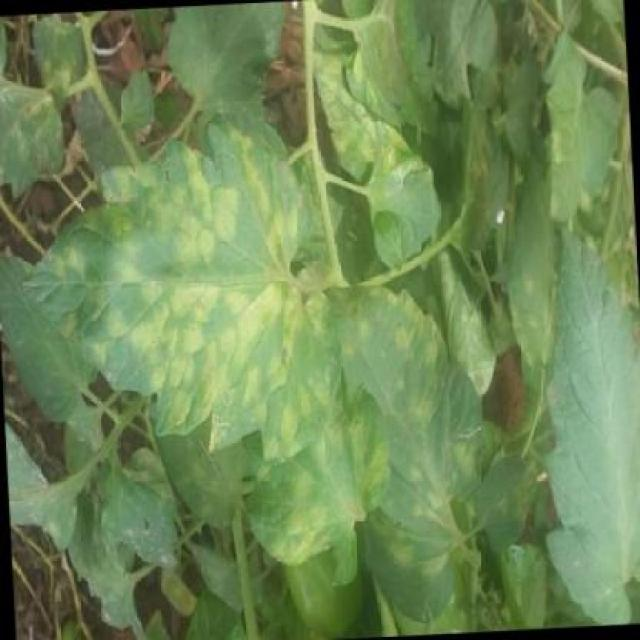Leaf Mold: (21, 114, 332, 477), (324, 281, 496, 605), (528, 224, 640, 610), (249, 349, 386, 596), (541, 49, 624, 220)
